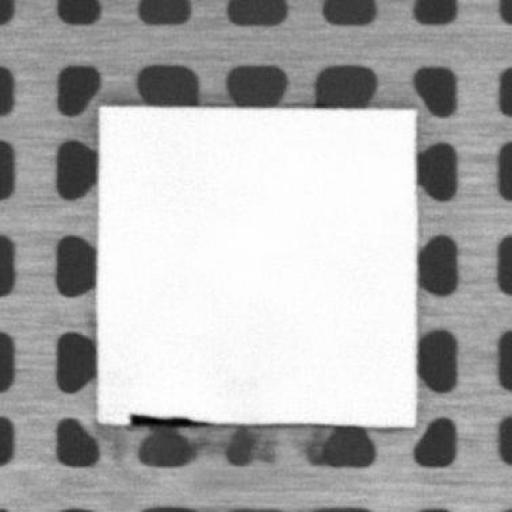DIE_BROKEN: (124, 409, 212, 427)
